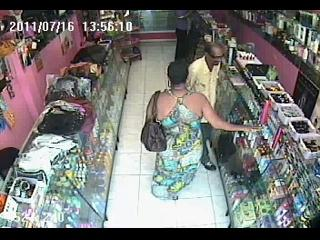Normal: (143, 60, 262, 201), (186, 42, 228, 172), (140, 120, 166, 153)
